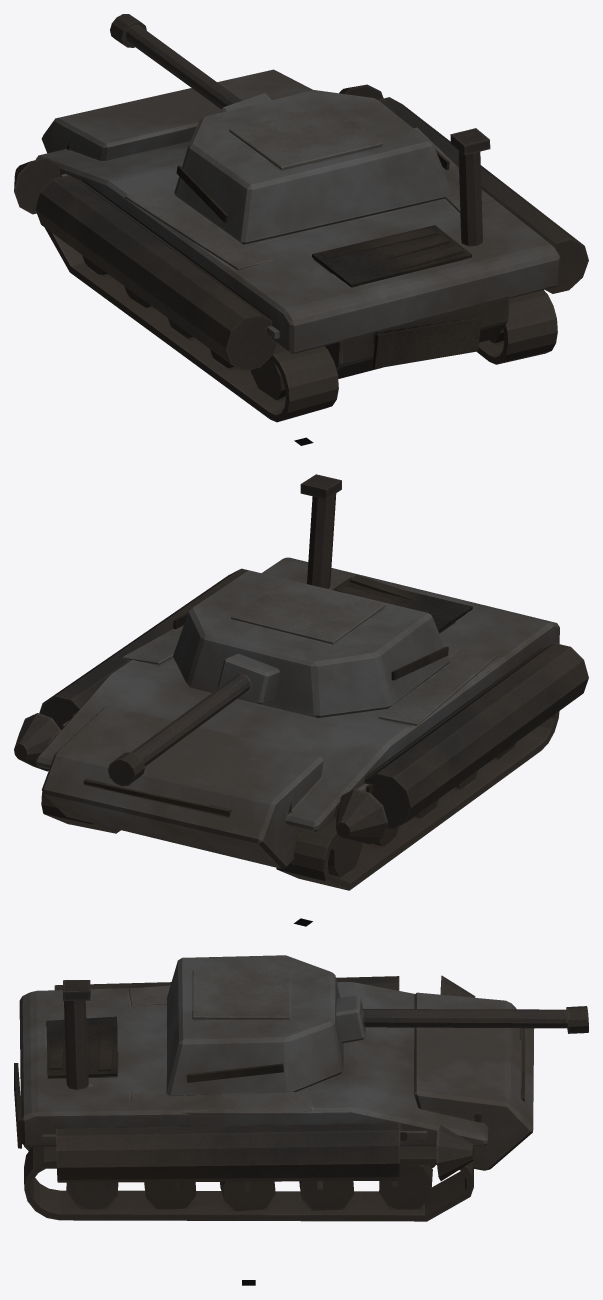
The model's file is chs_mudskipper_wreck.fbx.
3 views of the same model, one above another, from view 1: azimuth 30°, elevation 25°; view 2: azimuth 150°, elevation 25°; view 3: azimuth 270°, elevation 25° (orthographic). The views are drawn at different scales.
Parts seen in each view (by area): view 1: base_bar, turret_bar, trackL_bar, trackR_bar, barrel_bar; view 2: base_bar, turret_bar, trackL_bar, barrel_bar, trackR_bar; view 3: base_bar, turret_bar, trackR_bar, barrel_bar.
Boxes of the visible parts, bbox=[...] form: base_bar: bbox=[14, 69, 588, 378]; turret_bar: bbox=[174, 90, 453, 244]; trackL_bar: bbox=[45, 228, 338, 422]; trackR_bar: bbox=[477, 290, 557, 364]; barrel_bar: bbox=[110, 14, 271, 112]; base_bar: bbox=[14, 474, 588, 868]; turret_bar: bbox=[173, 570, 450, 717]; trackL_bar: bbox=[276, 711, 559, 890]; barrel_bar: bbox=[108, 653, 280, 786]; trackR_bar: bbox=[41, 792, 120, 833]; base_bar: bbox=[14, 975, 534, 1191]; turret_bar: bbox=[166, 955, 343, 1095]; trackR_bar: bbox=[24, 1146, 473, 1221]; barrel_bar: bbox=[336, 995, 588, 1043].
Bounding box in the file's own units: 591 × 537 × 845.
2 materials, 2 textured.
